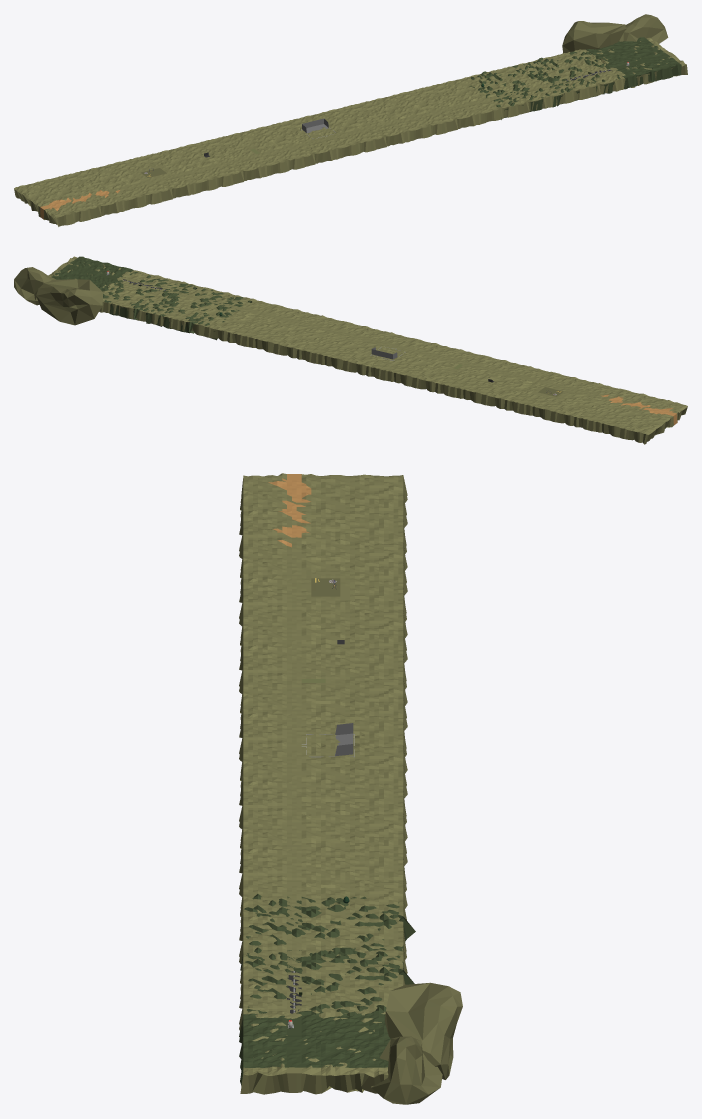
File: 4_City_수정모음2.fbx
3 renders of one model, top to bottom at view 1: azimuth 30°, elevation 25°; view 2: azimuth 150°, elevation 25°; view 3: azimuth 270°, elevation 25°, orthographic. The views are drawn at different scales.
Visible parts, largest first — view 1: 1_도시_바닥_수정, 3_숲_바닥, 1_도시_배경요소_산.001, 3_숲_바닥.003, 3_숲_바닥.002, 1_도시_배경요소_산.016, 3_숲_바닥.001; view 2: 1_도시_바닥_수정, 1_도시_배경요소_산.001, 3_숲_바닥, 3_숲_바닥.003, 3_숲_바닥.002, 1_도시_배경요소_산.016, 3_숲_바닥.001; view 3: 1_도시_바닥_수정, 3_숲_바닥, 1_도시_배경요소_산.001, 3_숲_바닥.001, 3_숲_바닥.003, 3_숲_바닥.002, 1_도시_배경요소_산.016.
Boxes of the visible parts, box(x1,y1,x2,y2) form: 1_도시_바닥_수정: box(14, 49, 625, 226); 3_숲_바닥: box(586, 37, 681, 87); 1_도시_배경요소_산.001: box(562, 21, 626, 53); 3_숲_바닥.003: box(467, 64, 564, 119); 3_숲_바닥.002: box(524, 51, 627, 106); 1_도시_배경요소_산.016: box(619, 14, 668, 43); 3_숲_바닥.001: box(592, 37, 687, 91); 1_도시_바닥_수정: box(99, 270, 687, 444); 1_도시_배경요소_산.001: box(36, 279, 102, 325); 3_숲_바닥: box(51, 256, 133, 291); 3_숲_바닥.003: box(146, 285, 251, 340); 3_숲_바닥.002: box(103, 272, 196, 326); 1_도시_배경요소_산.016: box(14, 267, 55, 305); 3_숲_바닥.001: box(48, 256, 135, 312); 1_도시_바닥_수정: box(239, 473, 407, 1030); 3_숲_바닥: box(239, 1013, 390, 1085); 1_도시_배경요소_산.001: box(384, 982, 462, 1079); 3_숲_바닥.001: box(240, 1005, 388, 1094); 3_숲_바닥.003: box(240, 894, 415, 968); 3_숲_바닥.002: box(240, 947, 414, 1016); 1_도시_배경요소_산.016: box(371, 1036, 442, 1104).
Size of the model in its own units: 35009 by 228596 by 12569.
